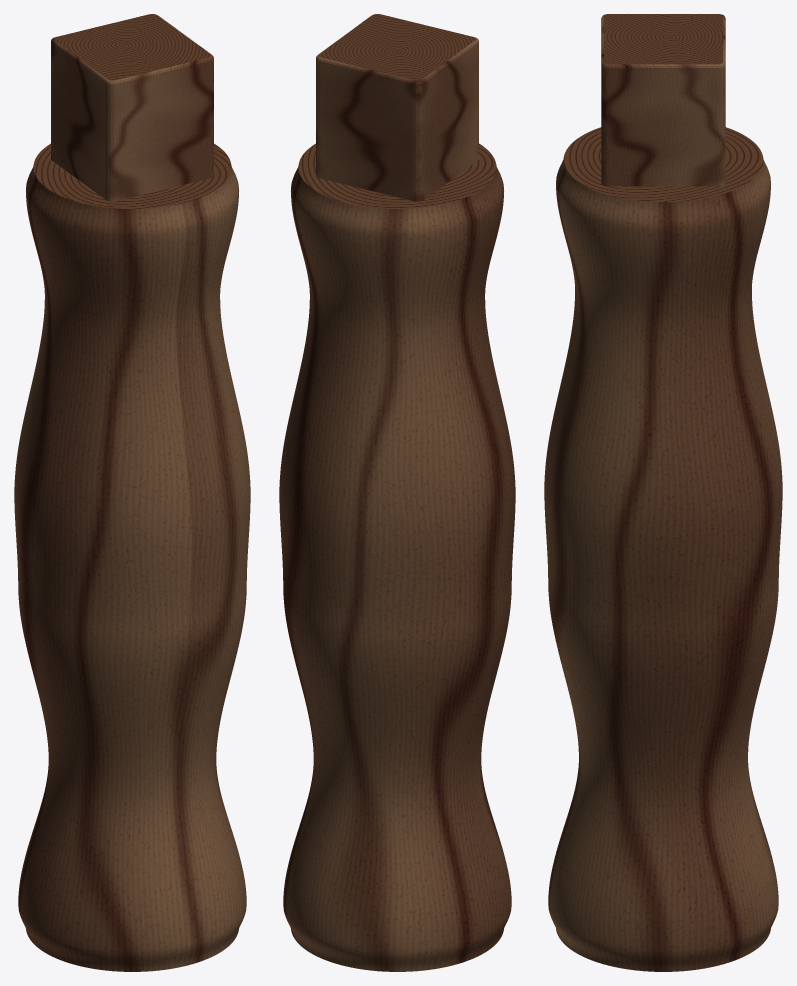
Rendered from cinderpine_handle.glb.
The picture shows the model from 3 angles, left to right: view 1: azimuth 30°, elevation 25°; view 2: azimuth 150°, elevation 25°; view 3: azimuth 270°, elevation 25°; orthographic projection.
Parts seen in each view (by area): view 1: walnut worked longitudinal grain, walnut endgrain on both sawn ends; view 2: walnut worked longitudinal grain, walnut endgrain on both sawn ends; view 3: walnut worked longitudinal grain, walnut endgrain on both sawn ends.
Part boxes in pixels (box(x1,y1,x2,y2)): walnut worked longitudinal grain: box(14, 14, 250, 971); walnut endgrain on both sawn ends: box(33, 14, 231, 208); walnut worked longitudinal grain: box(279, 14, 515, 971); walnut endgrain on both sawn ends: box(298, 14, 496, 208); walnut worked longitudinal grain: box(544, 14, 782, 971); walnut endgrain on both sawn ends: box(563, 14, 763, 202).
Bounding box in the file's own units: 0.062 × 0.2547 × 0.062.
Materials: 2 (2 with a texture image).
